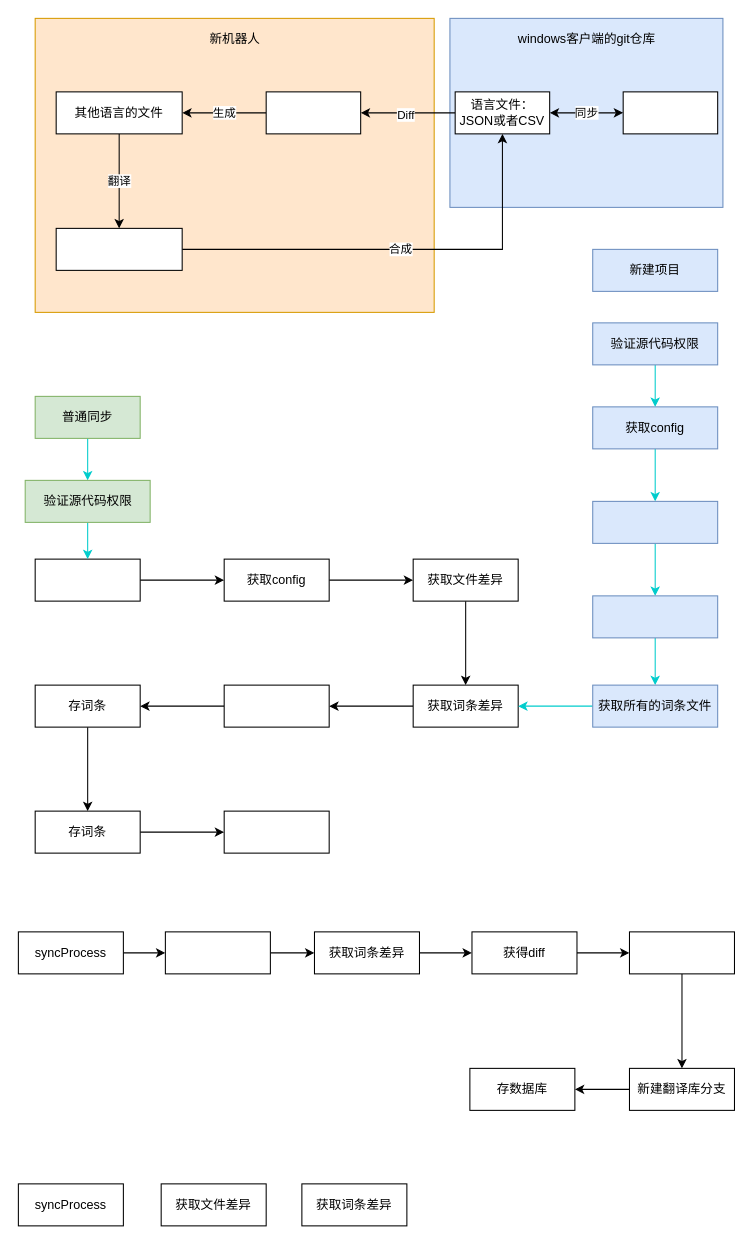
This 753x1244 diagram has some shape labels left out. Each missing label, with the box of its shape:
Execute: (223, 810, 329, 853)
RC文件: (622, 91, 718, 134)
Transfer: (223, 684, 329, 727)
创建数据库: (592, 500, 718, 543)
创建文件仓库: (592, 595, 718, 638)
对比文件差异: (164, 931, 270, 974)
新增的中文词条: (265, 91, 361, 134)
权限验证: (34, 558, 140, 601)
每个语言填充diff词条原始信息: (628, 931, 734, 974)
翻译后的其他语言文件: (55, 227, 182, 270)
